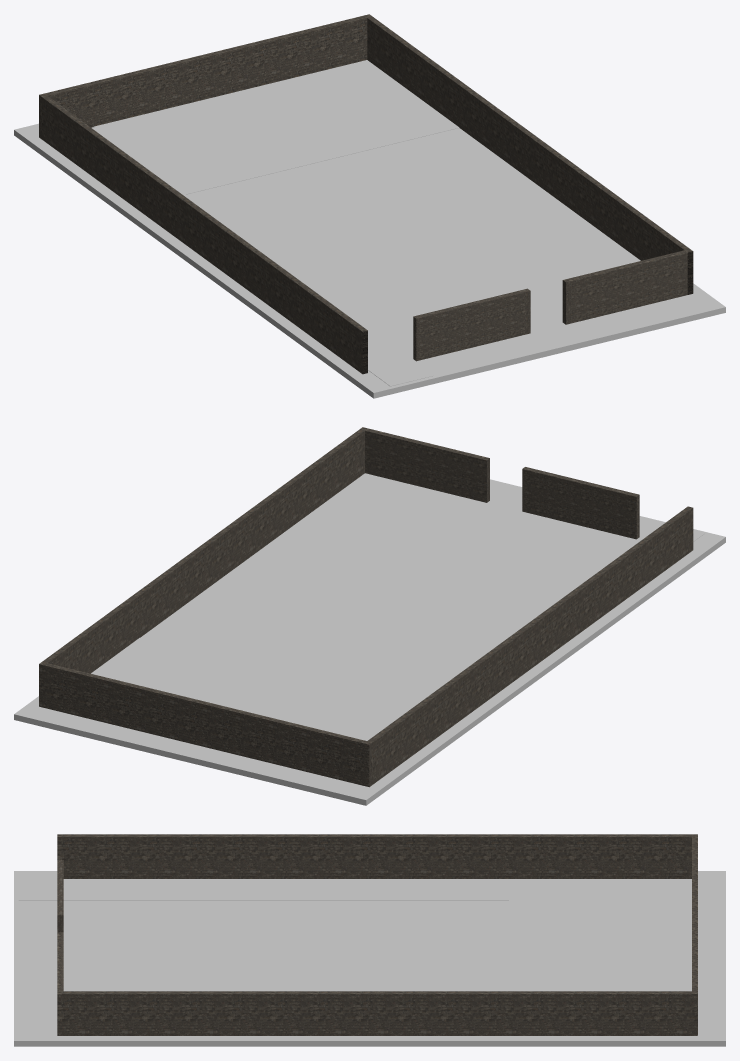
The model's file is piso.obj.
3 renders of one model, top to bottom at view 1: azimuth 30°, elevation 25°; view 2: azimuth 150°, elevation 25°; view 3: azimuth 270°, elevation 25°, orthographic.
Parts seen in each view (by area): view 1: EstructuraPiso, PisoCarros2, Pared4, Pared2, Pared3, Pared1, Pared5, PisoCarros1; view 2: EstructuraPiso, Pared4, Pared3, Pared2, PisoCarros2, Pared1, Pared5, PisoCarros1; view 3: EstructuraPiso, Pared2, Pared4, PisoCarros2, PisoCarros1, Pared3, Pared5, Pared1.
Part boxes in pixels (<box>): EstructuraPiso: <box>14,123,725,398</box>; PisoCarros2: <box>94,60,459,194</box>; Pared4: <box>39,96,367,374</box>; Pared2: <box>364,14,693,294</box>; Pared3: <box>39,14,371,139</box>; Pared1: <box>562,250,687,324</box>; Pared5: <box>413,288,530,361</box>; PisoCarros1: <box>92,127,433,386</box>; EstructuraPiso: <box>14,473,725,805</box>; Pared4: <box>364,506,693,784</box>; Pared3: <box>39,663,372,787</box>; Pared2: <box>39,427,367,673</box>; PisoCarros2: <box>91,637,412,740</box>; Pared1: <box>365,428,489,502</box>; Pared5: <box>522,467,639,539</box>; PisoCarros1: <box>364,523,704,740</box>; EstructuraPiso: <box>14,871,725,1046</box>; Pared2: <box>57,991,697,1035</box>; Pared4: <box>57,834,696,878</box>; PisoCarros2: <box>509,900,691,991</box>; PisoCarros1: <box>18,879,690,900</box>; Pared3: <box>692,834,697,1035</box>; Pared5: <box>57,860,63,932</box>; Pared1: <box>57,932,63,991</box>.
Size of the model in its own units: 130 by 17 by 230.
